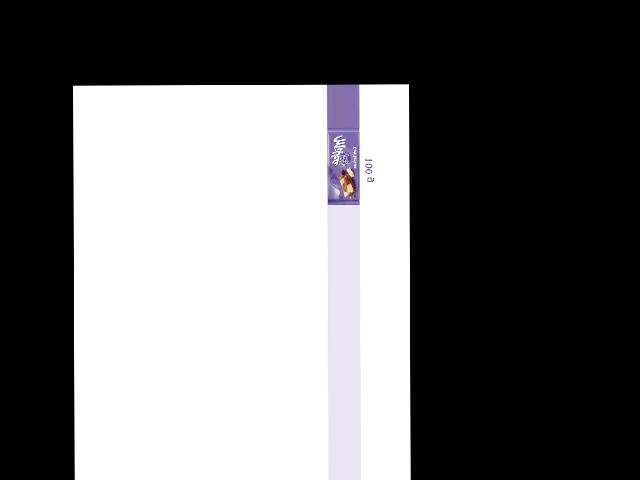chocolate: (327, 127, 361, 205)
